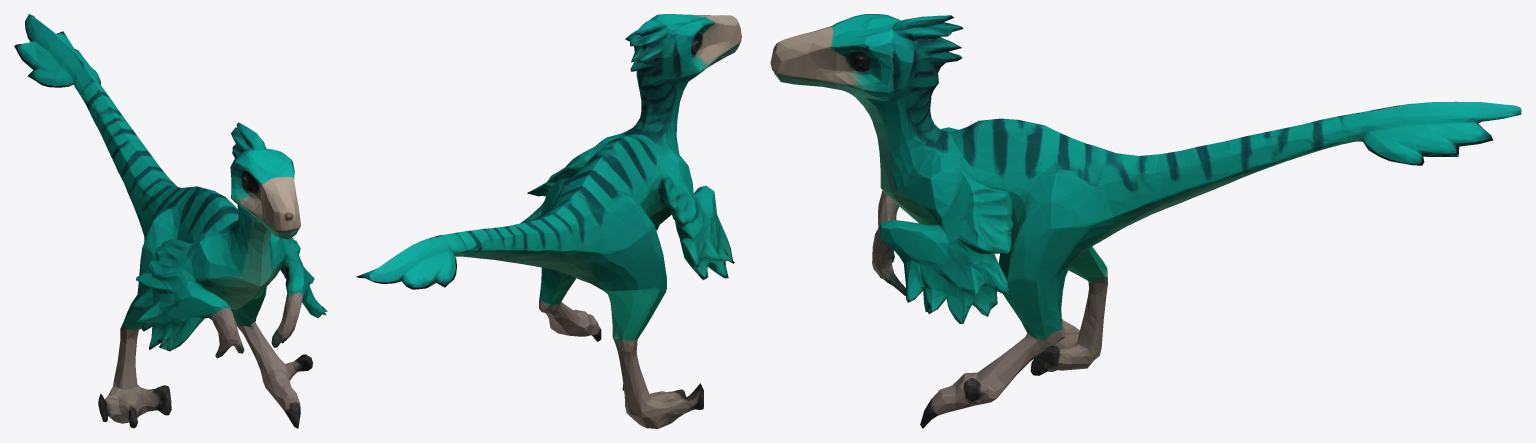
The model's file is velociraptor.glb.
3 renders of one model, left to right at view 1: azimuth 30°, elevation 25°; view 2: azimuth 150°, elevation 25°; view 3: azimuth 270°, elevation 25°, orthographic. The views are drawn at different scales.
Parts seen in each view (by area): view 1: geometry_0; view 2: geometry_0; view 3: geometry_0.
Part boxes in pixels (box(x1,y1,x2,y2)): geometry_0: box(14, 14, 327, 428); geometry_0: box(356, 14, 741, 428); geometry_0: box(770, 14, 1521, 428).
Bounding box in the file's own units: 0.3565 × 0.5749 × 1.
Materials: 1 (1 with a texture image).
